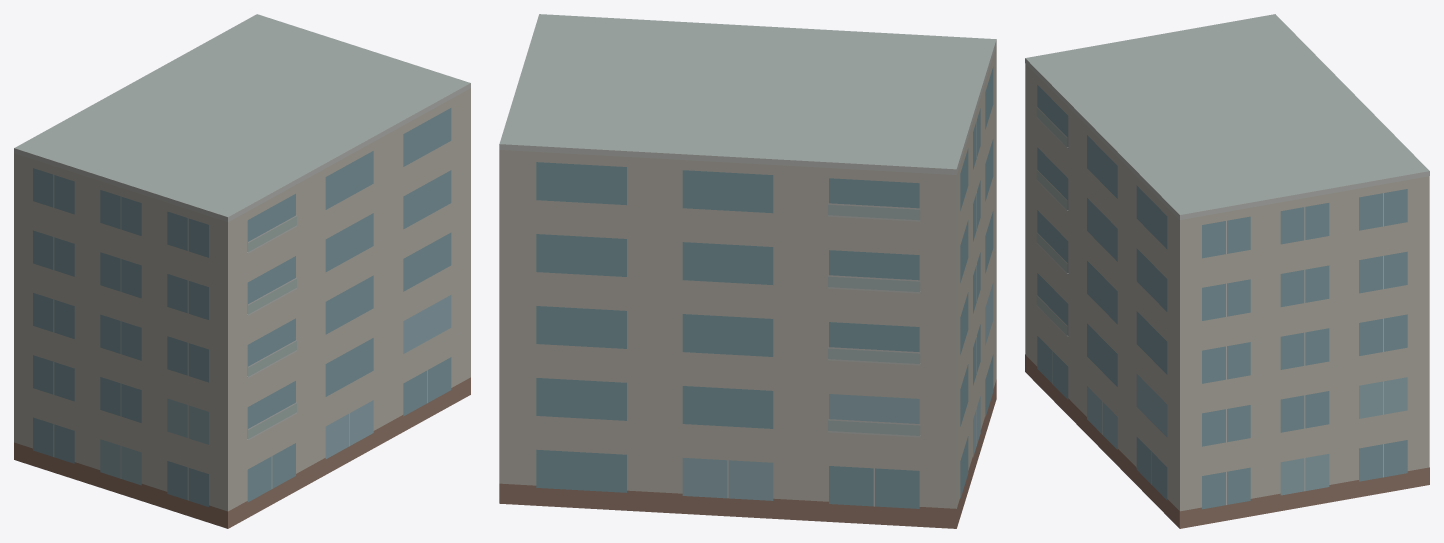
The model's file is residential-fe11256b-df1d-4b6e-9668-9760a172f4b0.glb.
3 views of the same model, side by side, from view 1: azimuth 30°, elevation 25°; view 2: azimuth 150°, elevation 25°; view 3: azimuth 270°, elevation 25° (orthographic). The views are drawn at different scales.
Parts seen in each view (by area): view 1: residential-fe11256b-df1d-4b6e-9668-9760a172f4b0.tmp; view 2: residential-fe11256b-df1d-4b6e-9668-9760a172f4b0.tmp; view 3: residential-fe11256b-df1d-4b6e-9668-9760a172f4b0.tmp.
Part boxes in pixels (left/top/right/bottom): residential-fe11256b-df1d-4b6e-9668-9760a172f4b0.tmp: left=14, top=14, right=470, bottom=528; residential-fe11256b-df1d-4b6e-9668-9760a172f4b0.tmp: left=499, top=14, right=996, bottom=528; residential-fe11256b-df1d-4b6e-9668-9760a172f4b0.tmp: left=1025, top=14, right=1429, bottom=528.
Size of the model in its own units: 20.97 by 15.25 by 17.83.
